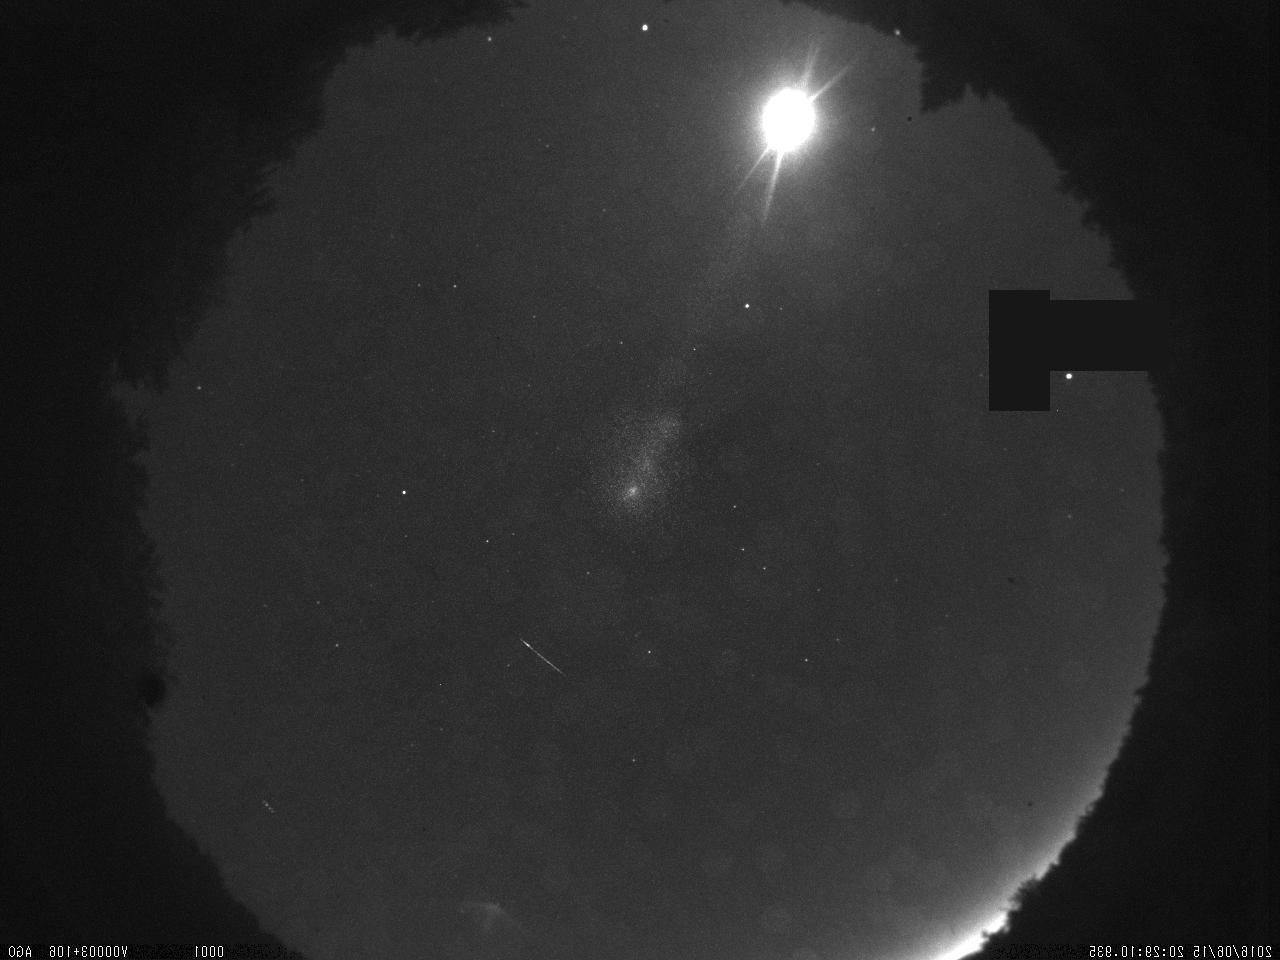meteor: (491, 621, 583, 697)
